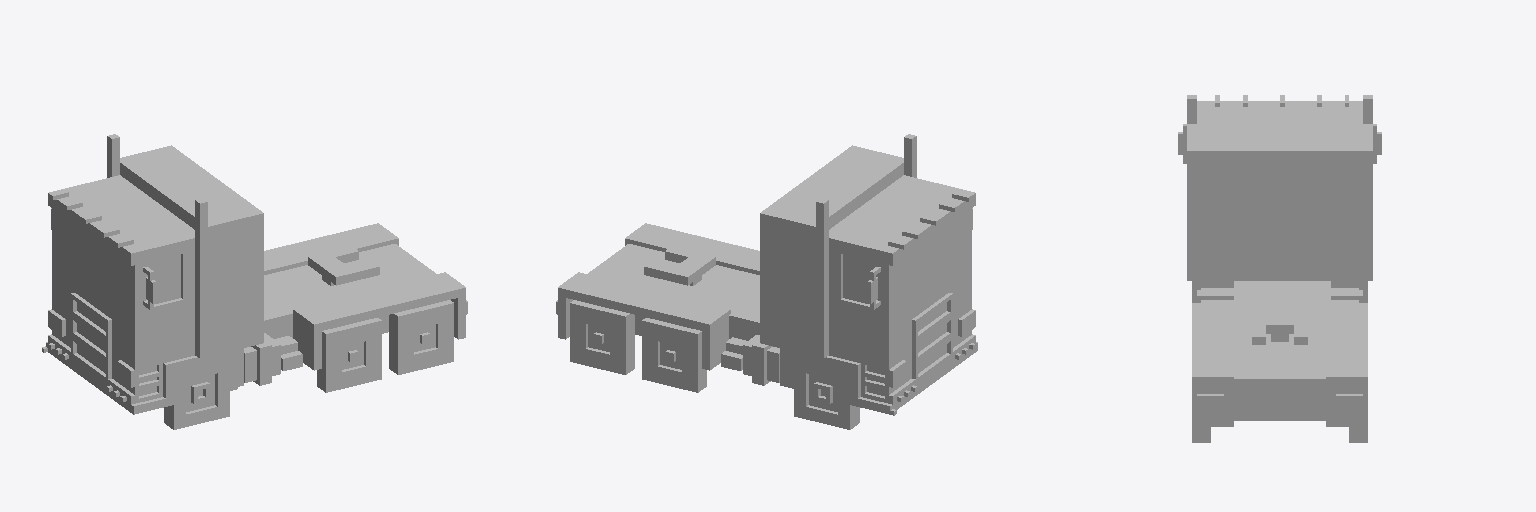
The model's file is alll cars3-151.obj.
The picture shows the model from 3 angles: view 1: azimuth 30°, elevation 25°; view 2: azimuth 150°, elevation 25°; view 3: azimuth 270°, elevation 25°; orthographic projection.
Parts seen in each view (by area): view 1: object 1; view 2: object 1; view 3: object 1.
Boxes of the visible parts, x1=… form: object 1: x1=42, y1=134, x2=467, y2=429; object 1: x1=556, y1=134, x2=977, y2=429; object 1: x1=1178, y1=95, x2=1381, y2=442.
Size of the model in its own units: 8.5 by 5.3 by 4.4.